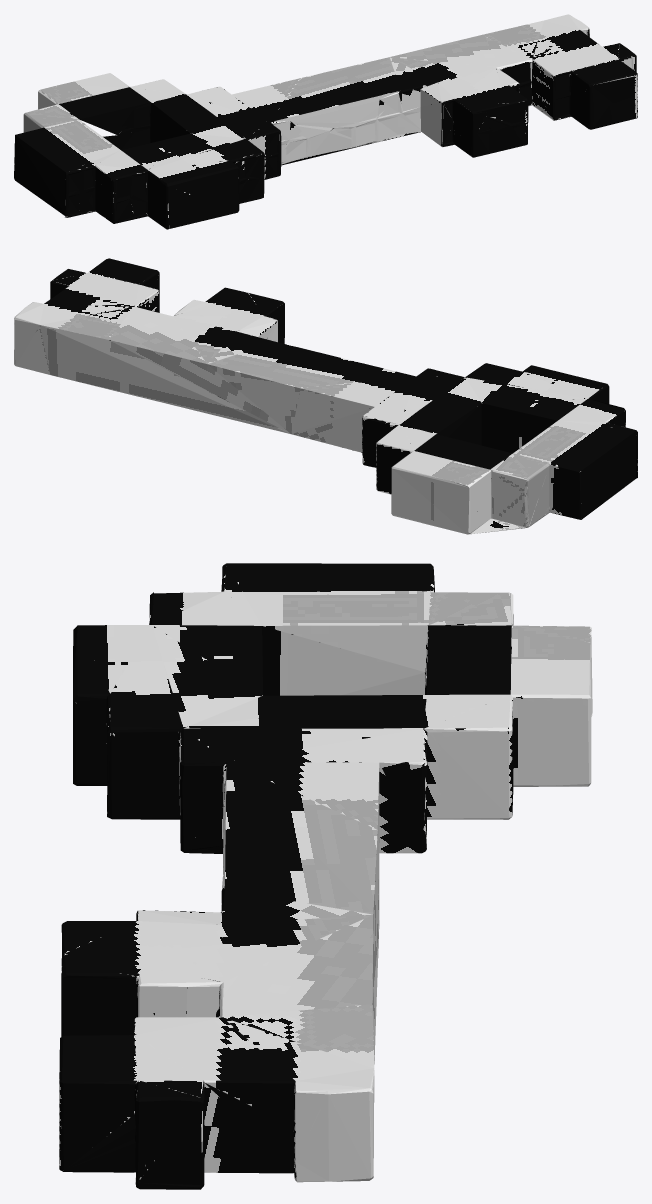
The picture shows the model from 3 angles, top to bottom: view 1: azimuth 30°, elevation 25°; view 2: azimuth 150°, elevation 25°; view 3: azimuth 270°, elevation 25°; orthographic projection. The views are drawn at different scales.
Parts seen in each view (by area): view 1: OBJ103; view 2: OBJ103; view 3: OBJ103.
Boxes of the visible parts, box(x1,y1,x2,y2) form: OBJ103: box(14, 14, 637, 229); OBJ103: box(14, 258, 637, 534); OBJ103: box(59, 563, 592, 1189).
Size of the model in its own units: 0.3244 by 0.026 by 0.1362.
Materials: 1 (1 with a texture image).
